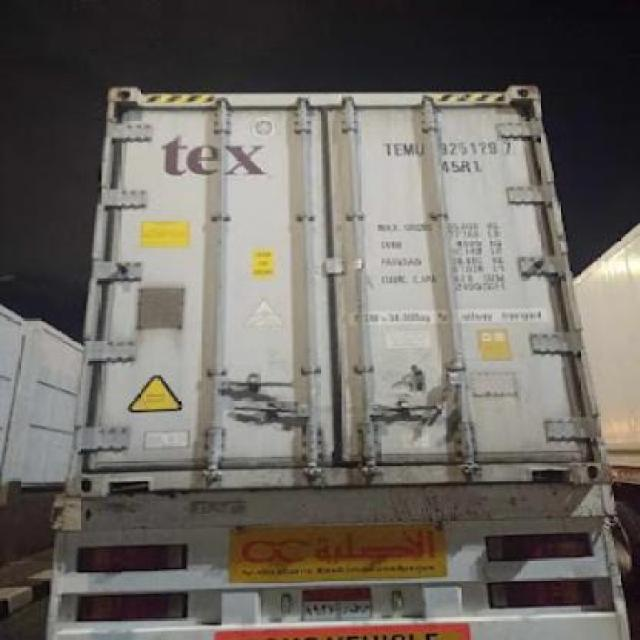ISO: (440, 158, 488, 174)
container_number: (382, 137, 522, 157)
